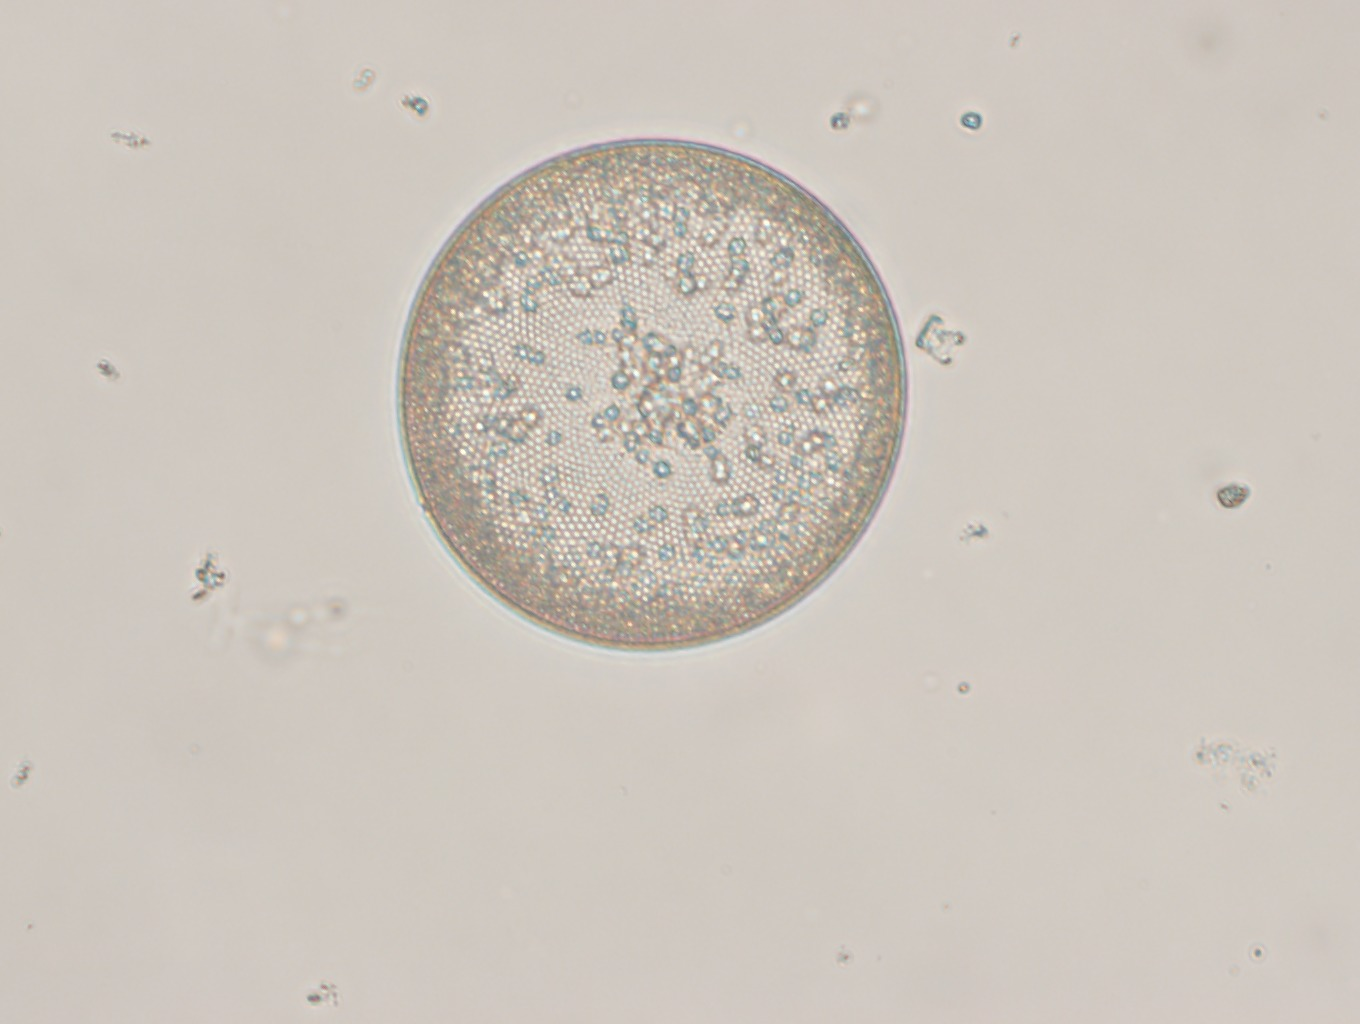coscinodiscus: (389, 131, 914, 660)
